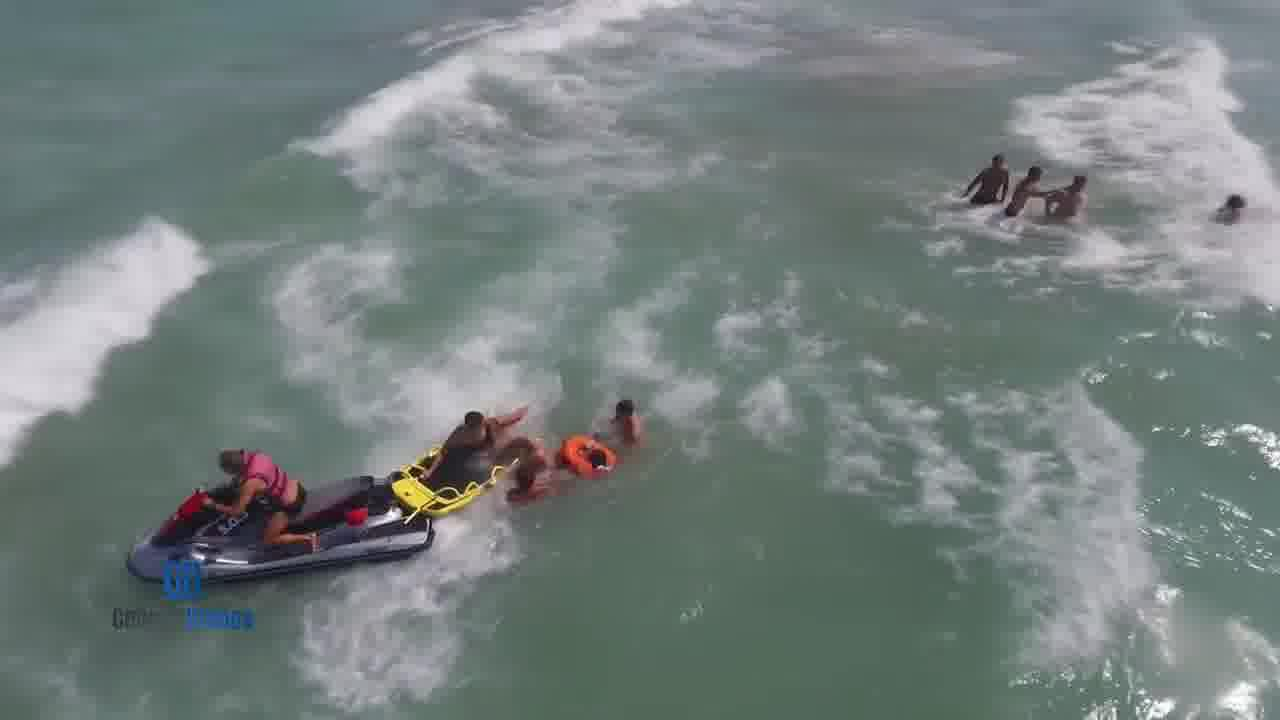swimmer: (517, 425, 627, 474), (593, 384, 667, 440), (503, 463, 585, 510), (1202, 186, 1255, 228)
